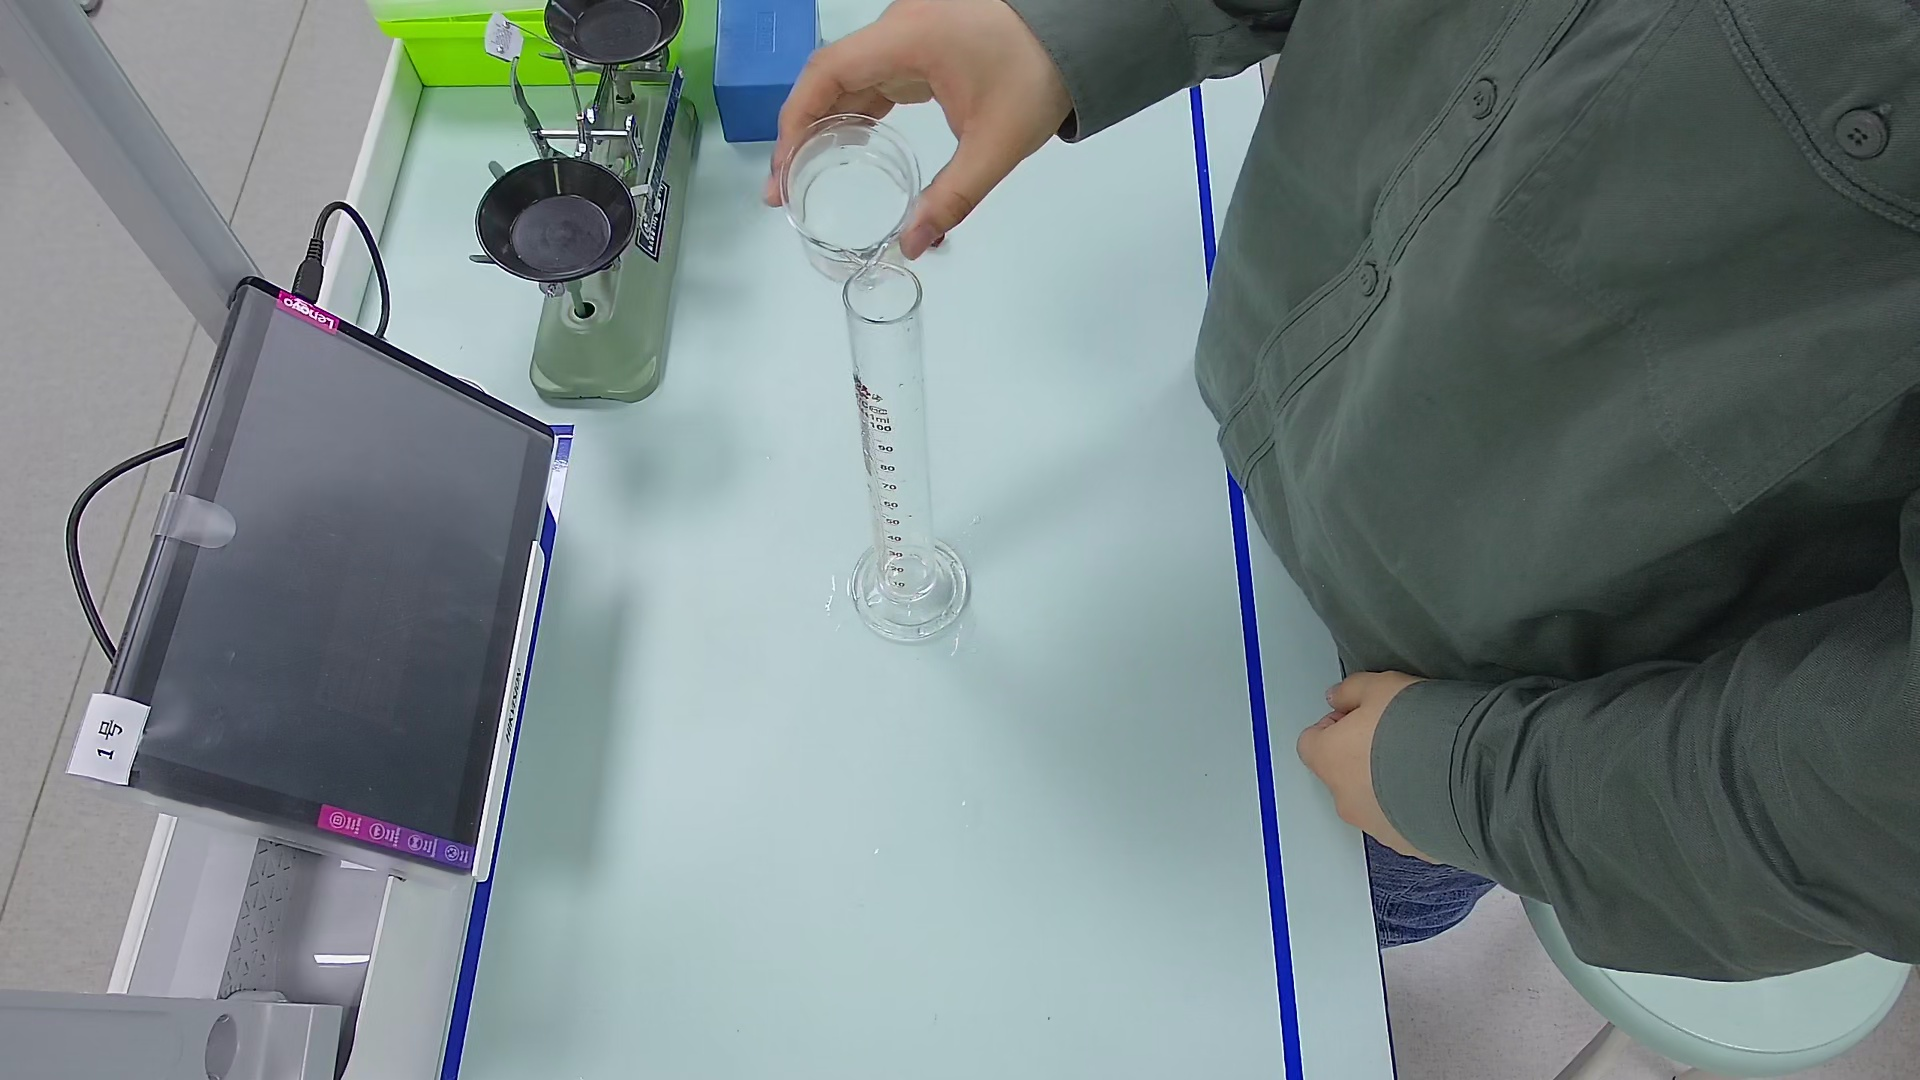bei: (775, 109, 926, 272)
hand: (764, 11, 1077, 243)
liangdi: (847, 538, 989, 644)
liangtong: (843, 262, 967, 638)
tuo: (464, 146, 640, 285), (529, 1, 698, 63)
